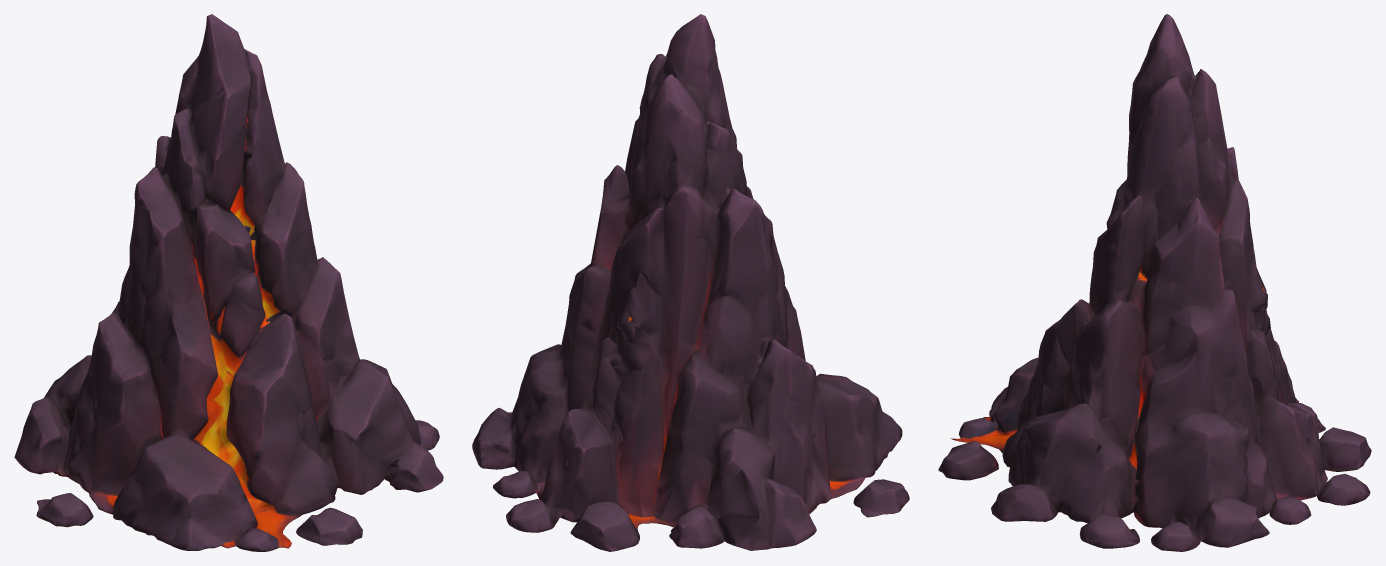
The model's file is roca_volcanica_de_lava.glb.
3 renders of one model, left to right at view 1: azimuth 30°, elevation 25°; view 2: azimuth 150°, elevation 25°; view 3: azimuth 270°, elevation 25°, orthographic. The views are drawn at different scales.
Parts seen in each view (by area): view 1: roca_volcanica_de_lava; view 2: roca_volcanica_de_lava; view 3: roca_volcanica_de_lava.
Part boxes in pixels (x1,y1,x2,y2): roca_volcanica_de_lava: (14,14,443,551); roca_volcanica_de_lava: (472,14,909,551); roca_volcanica_de_lava: (938,14,1371,551).
Size of what is drawn, in the model's own units: 1.77 by 2 by 1.77.
1 material, 1 textured.
